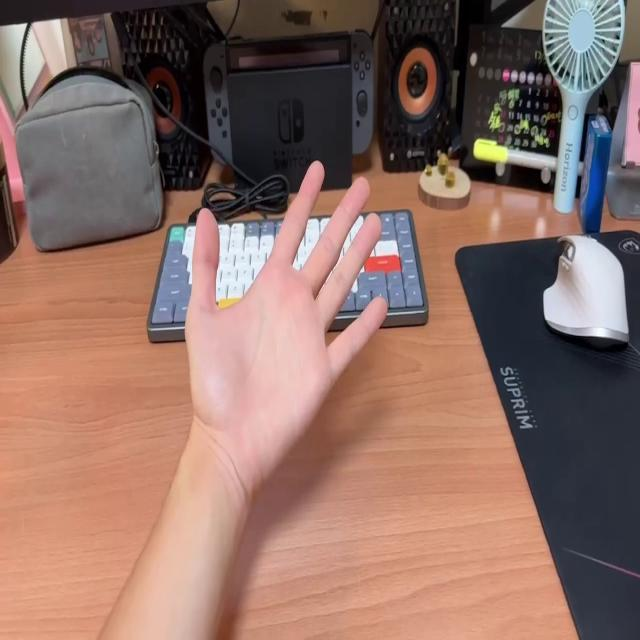keyboard-with-hands: (148, 211, 424, 330)
